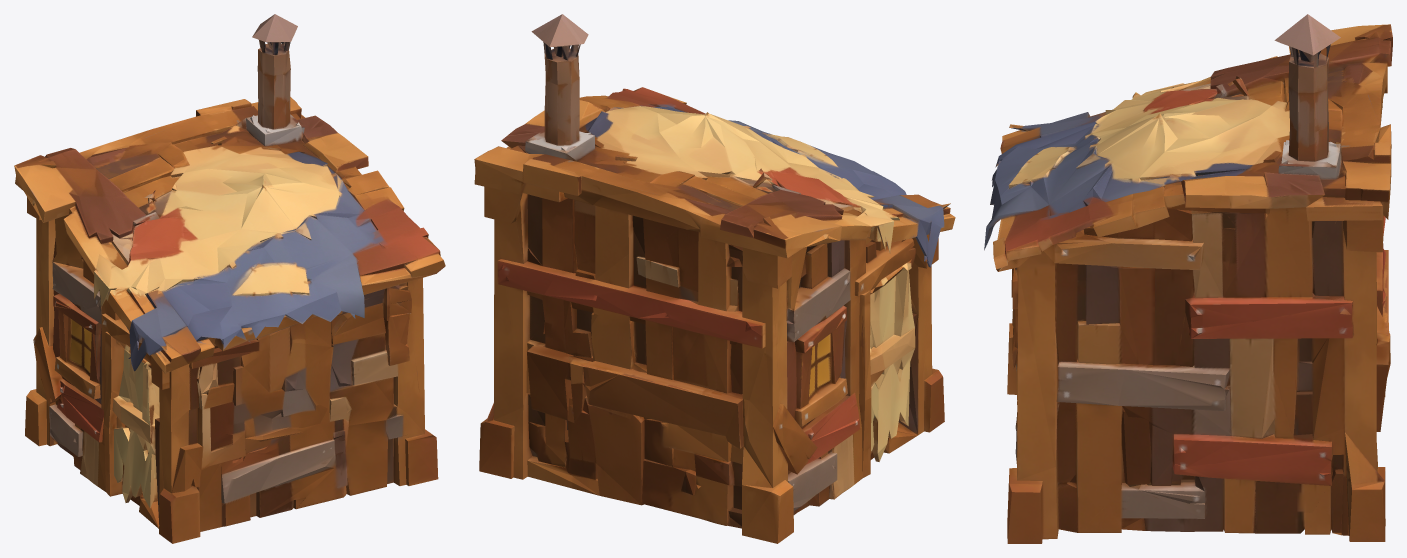
The model's file is TWN_STR_shack_A.glb.
The picture shows the model from 3 angles, left to right: view 1: azimuth 30°, elevation 25°; view 2: azimuth 150°, elevation 25°; view 3: azimuth 270°, elevation 25°; orthographic projection. The views are drawn at different scales.
Visible parts, largest first — view 1: Mesh_0; view 2: Mesh_0; view 3: Mesh_0.
Part boxes in pixels (x1,y1,x2,y2): Mesh_0: (14,14,445,543); Mesh_0: (474,14,955,543); Mesh_0: (984,14,1392,543).
Size of the model in its own units: 1.46 by 1.9 by 1.4.
1 material, 1 textured.
